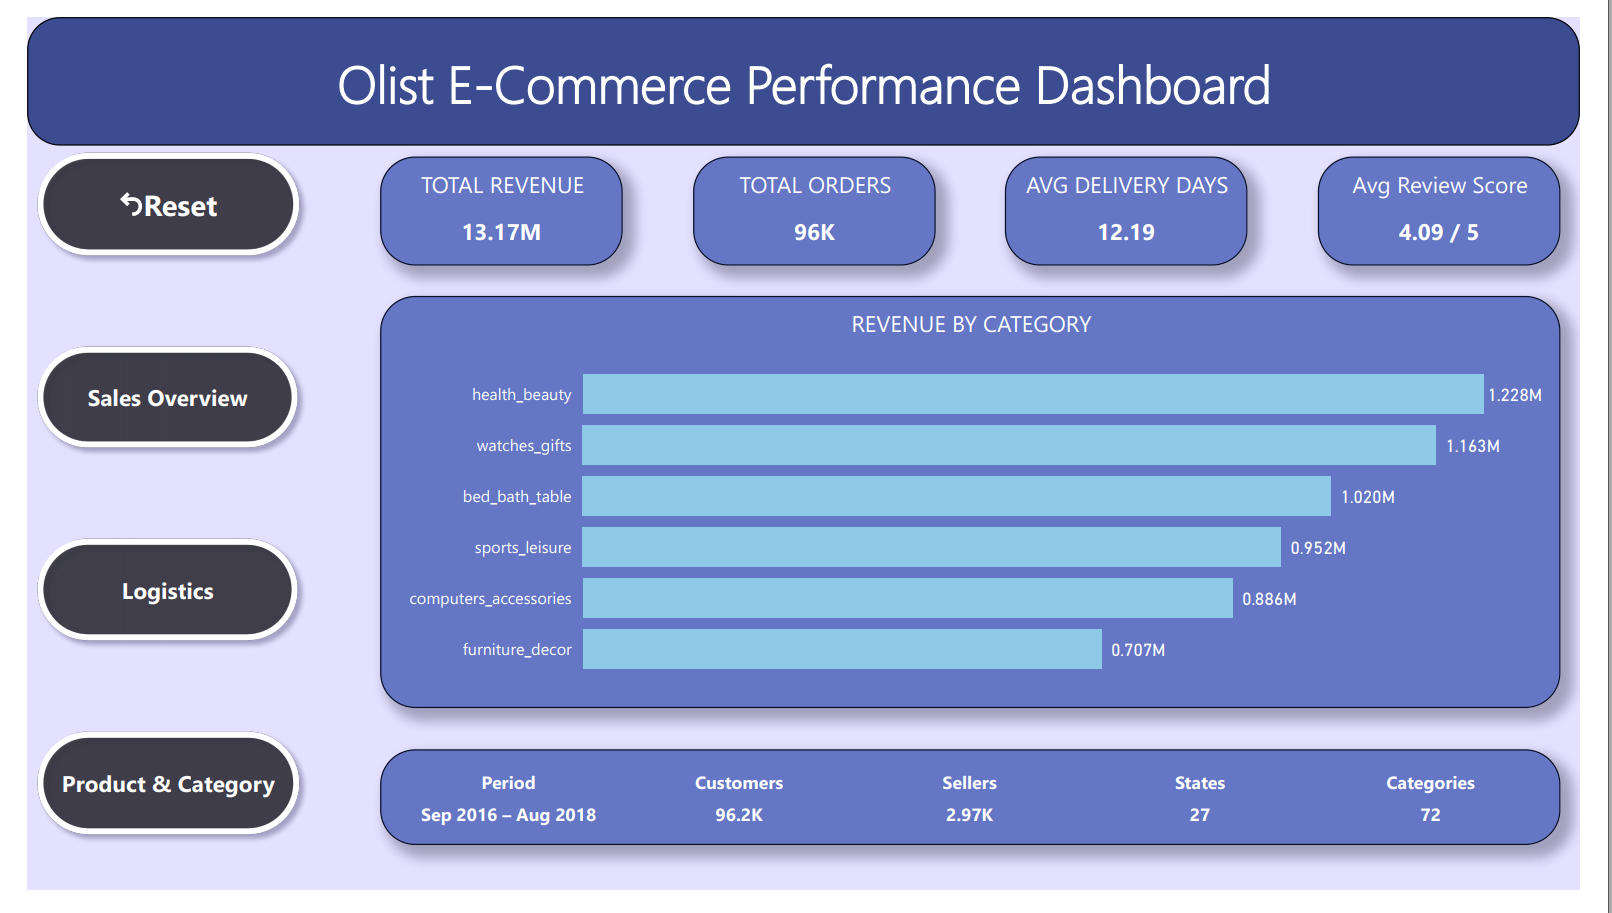

This screenshot's page, from the dashboard's own definition file:
{"tool":"powerbi","page":{"name":"Home","canvas":[1280,720],"ordinal":0},"visuals":[{"type":"textbox","box":[0,0,1280,106.2],"z":0},{"type":"cardVisual","title":"TOTAL REVENUE","fields":{"Data":["olist_final_table.Total Revenue"]},"box":[291.2,115,200,90],"z":1000},{"type":"cardVisual","title":"TOTAL ORDERS","fields":{"Data":["olist_final_table.TotalOrders"]},"box":[548.8,115,200,90],"z":2000},{"type":"cardVisual","title":"AVG DELIVERY DAYS","fields":{"Data":["olist_final_table.Avg delivery day"]},"box":[806.2,115,200,90],"z":3000},{"type":"cardVisual","title":"Avg Review Score","fields":{"Data":["olist_final_table.Avg Review Display"]},"box":[1063.8,115,200,90],"z":4000},{"type":"clusteredBarChart","title":"REVENUE BY CATEGORY","fields":{"Category":["olist_final_table.category_name_en"],"Y":["olist_final_table.Total Revenue"]},"box":[291.2,230,972.5,340],"z":5000},{"type":"cardVisual","fields":{"Data":["olist_final_table.Period","olist_final_table.Customers","olist_final_table.Sellers","olist_final_table.States","olist_final_table.Categories"]},"box":[291.2,603.8,972.5,78.8],"z":6000},{"type":"actionButton","box":[0,262.9,232.1,101.2],"z":7000},{"type":"actionButton","box":[0,422.1,232.1,101.2],"z":8000},{"type":"actionButton","box":[0,581.3,232.5,101.9],"z":9000},{"type":"actionButton","box":[0,103.1,232.5,101.9],"z":14000}]}

Visuals, with their boxes in screenshot pixels (x1, y1, x2, y2), scaled from the page's 1280x720 canvas onto the 1612x913 screenshot:
textbox: box(0, 0, 1611, 135)
"TOTAL REVENUE" cardVisual: box(367, 146, 619, 260)
"TOTAL ORDERS" cardVisual: box(691, 146, 943, 260)
"AVG DELIVERY DAYS" cardVisual: box(1015, 146, 1267, 260)
"Avg Review Score" cardVisual: box(1340, 146, 1592, 260)
"REVENUE BY CATEGORY" clusteredBarChart: box(367, 292, 1591, 723)
cardVisual - olist_final_table.Period x olist_final_table.Customers: box(367, 766, 1591, 866)
actionButton: box(0, 333, 292, 462)
actionButton: box(0, 535, 292, 664)
actionButton: box(0, 737, 293, 866)
actionButton: box(0, 131, 293, 260)
